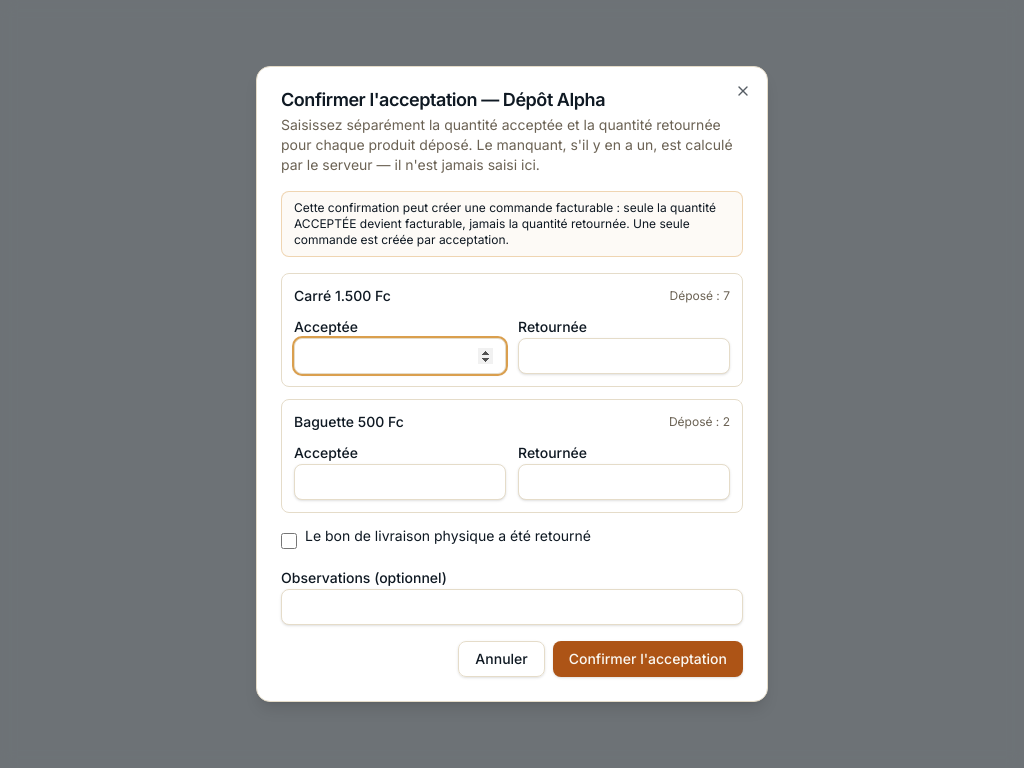
Test: DialogAcceptationCycle — DOM (F5B, vague 3) › un 409 ACCEPTATION_DEJA_CONVERTIE (pas une obsolescence de version) affiche le message serveur et laisse réessayer
This screenshot has width=1024, height=768.
In the number field labelled "Acceptée" below "Carré 1.500 Fc": (400, 356) x1=294 y1=338 x2=506 y2=374, type "7"
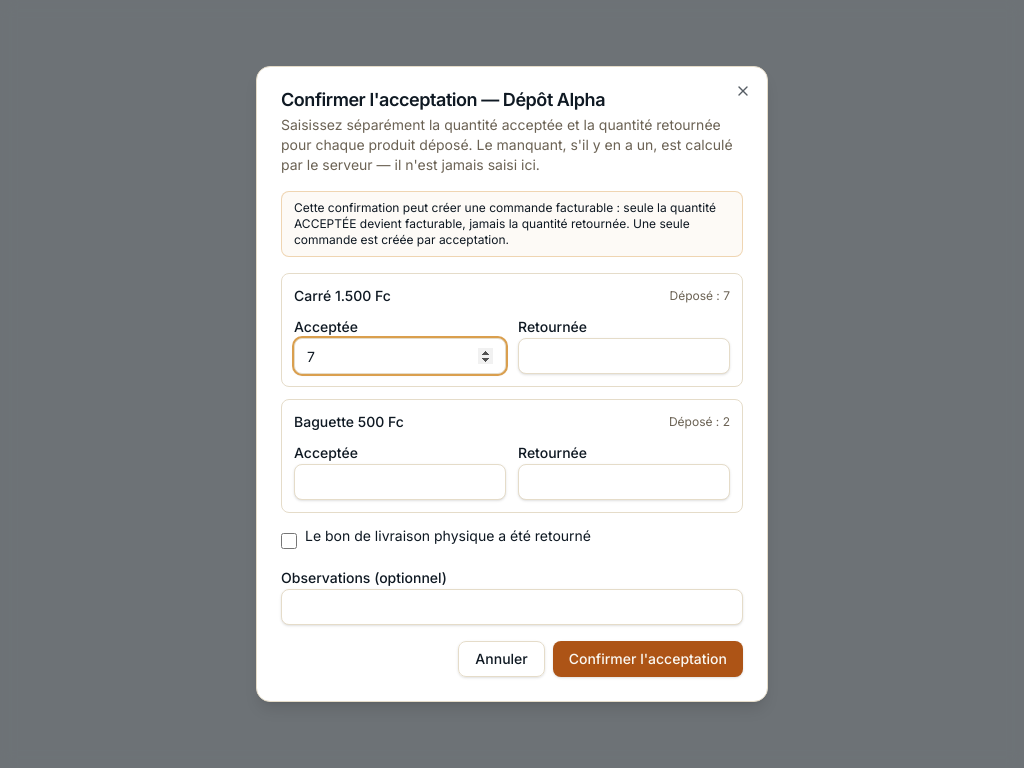
In the number field labelled "Retournée" below "Carré 1.500 Fc": (624, 356) x1=518 y1=338 x2=730 y2=374, type "0"
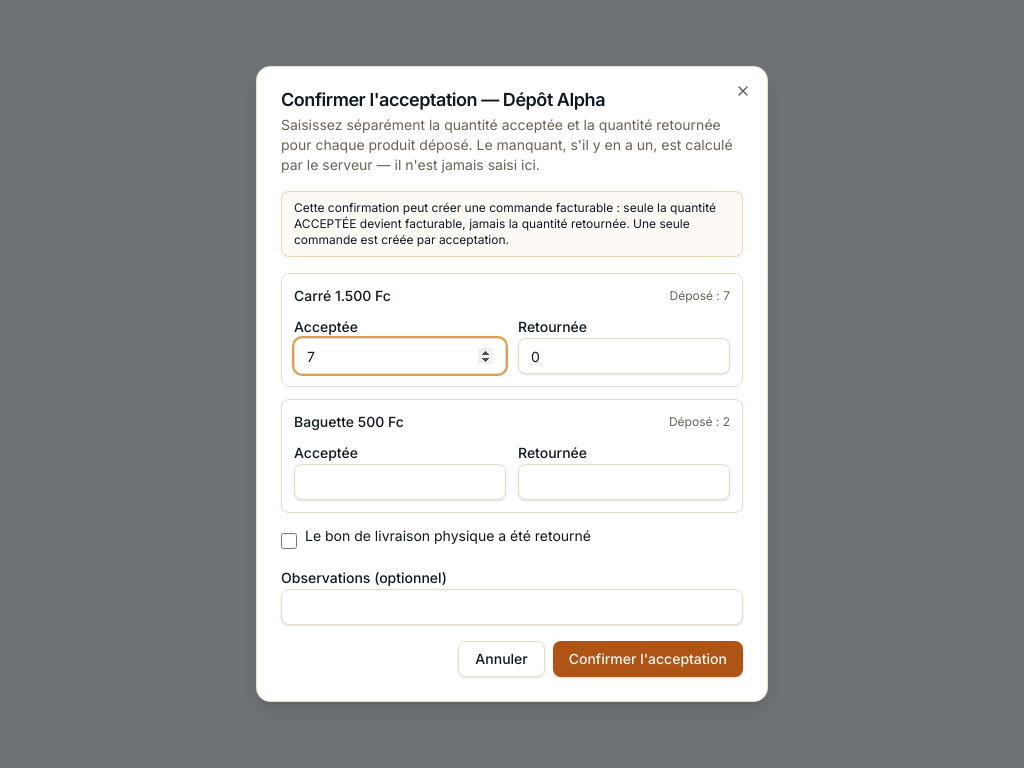
In the number field labelled "Acceptée" below "Baguette 500 Fc": (400, 482) x1=294 y1=464 x2=506 y2=500, type "2"
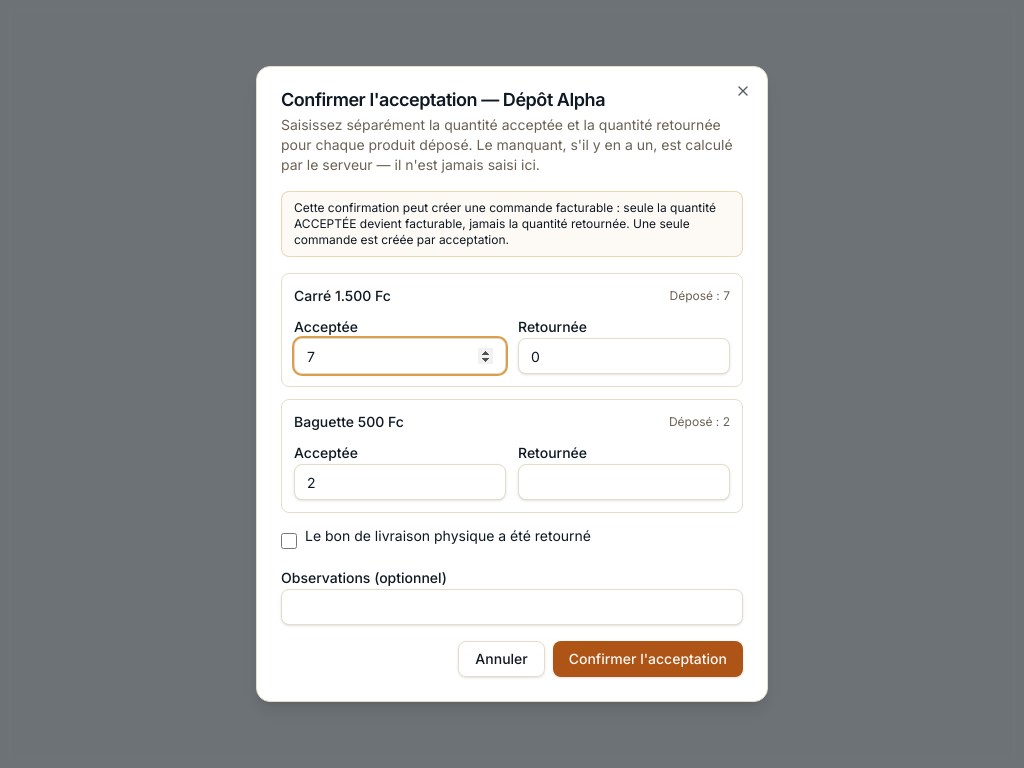
In the number field labelled "Retournée" below "Baguette 500 Fc": (624, 482) x1=518 y1=464 x2=730 y2=500, type "0"
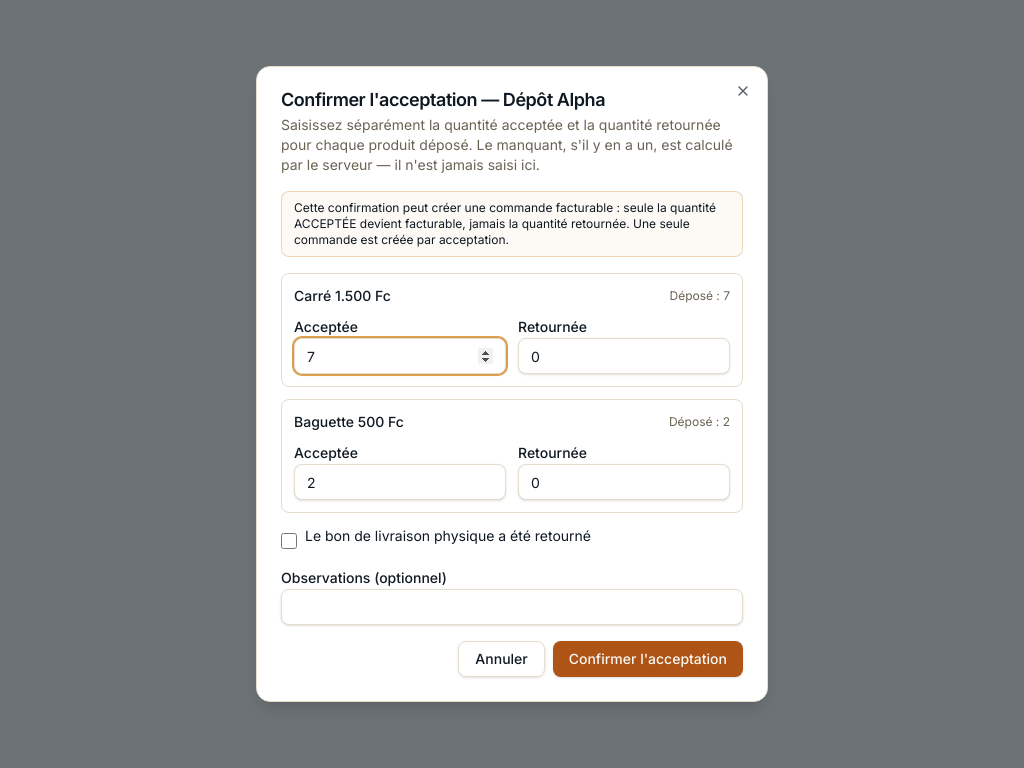
Click the button "Confirmer l'acceptation": (648, 659) x1=553 y1=641 x2=743 y2=677
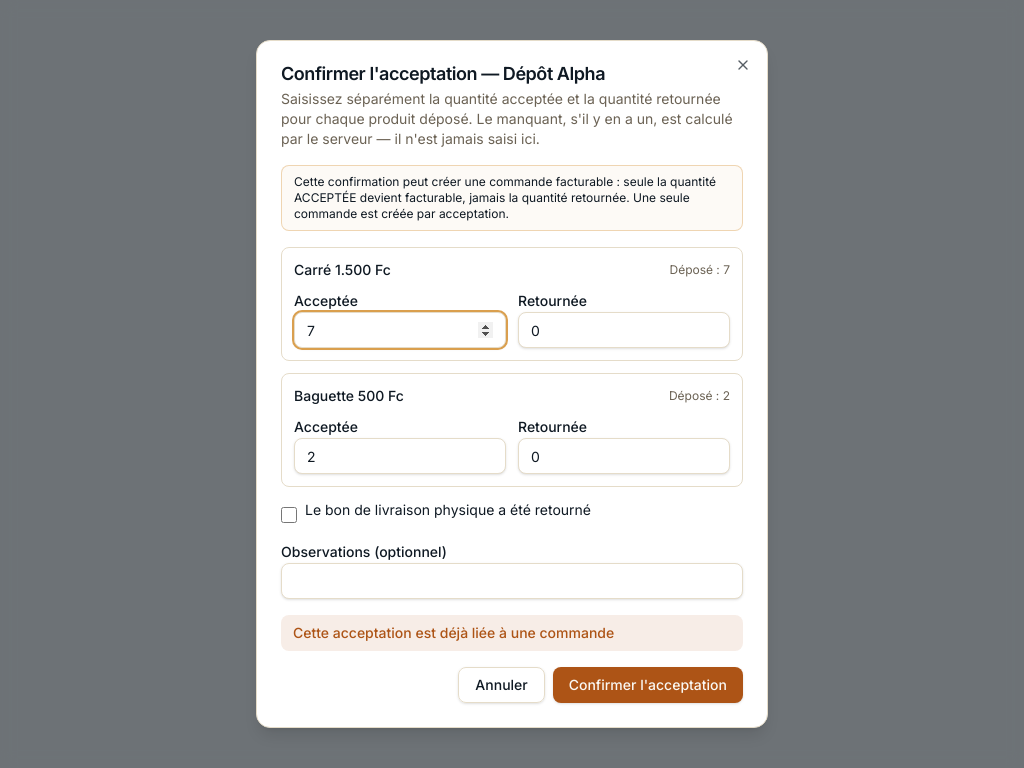
Expected: the button "Confirmer l'acceptation" is shown, x1=553 y1=667 x2=743 y2=703
Now the message reads "Cette acceptation est déjà liée à une commande", box x1=293 y1=624 x2=614 y2=641
